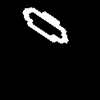chain: (23, 8, 67, 42)
